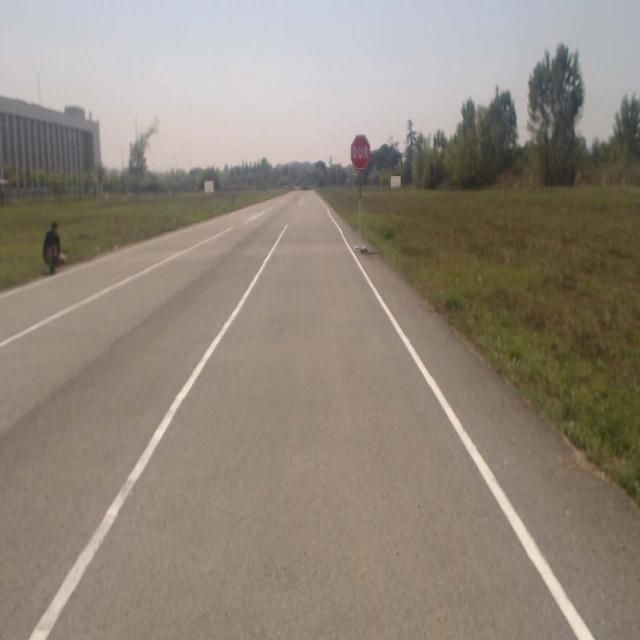dur: (351, 134, 371, 172)
